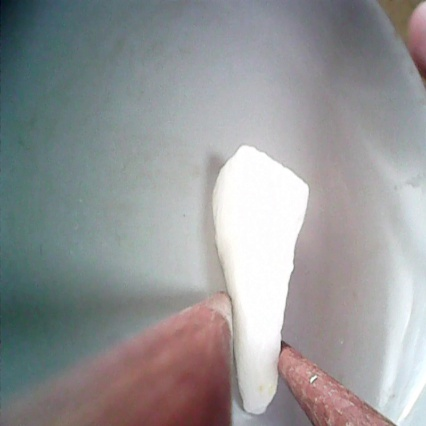white_chinese-yam: (207, 143, 312, 419)
